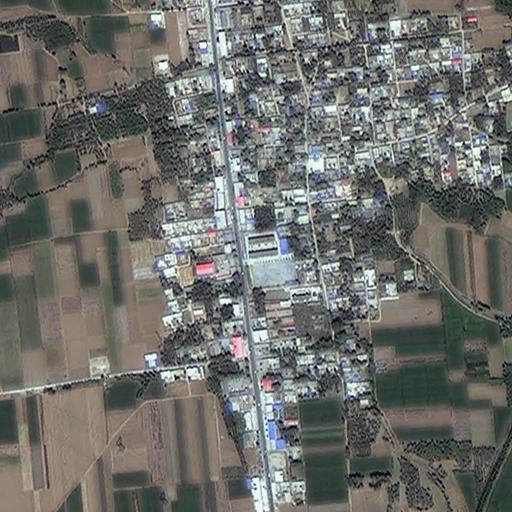school: (243, 227, 299, 288)
